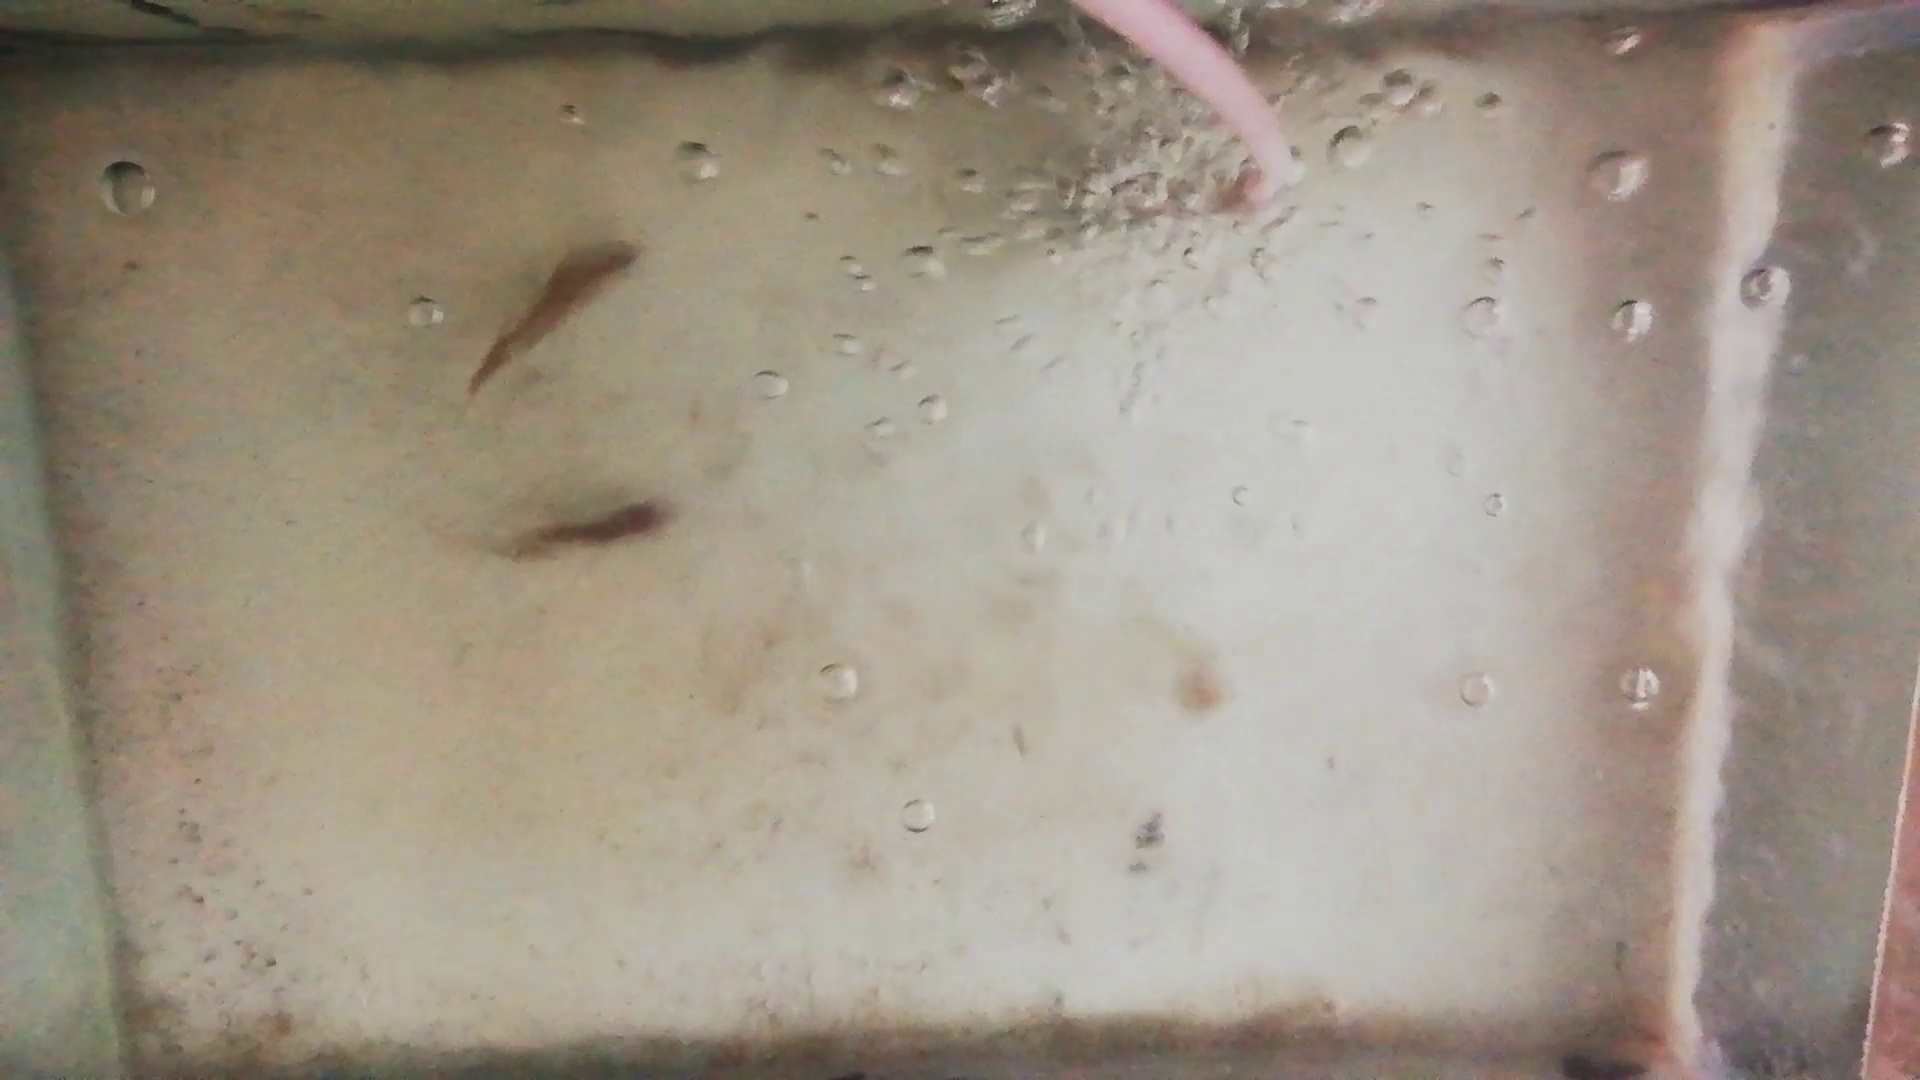fish: (465, 240, 636, 392), (491, 498, 676, 560)
